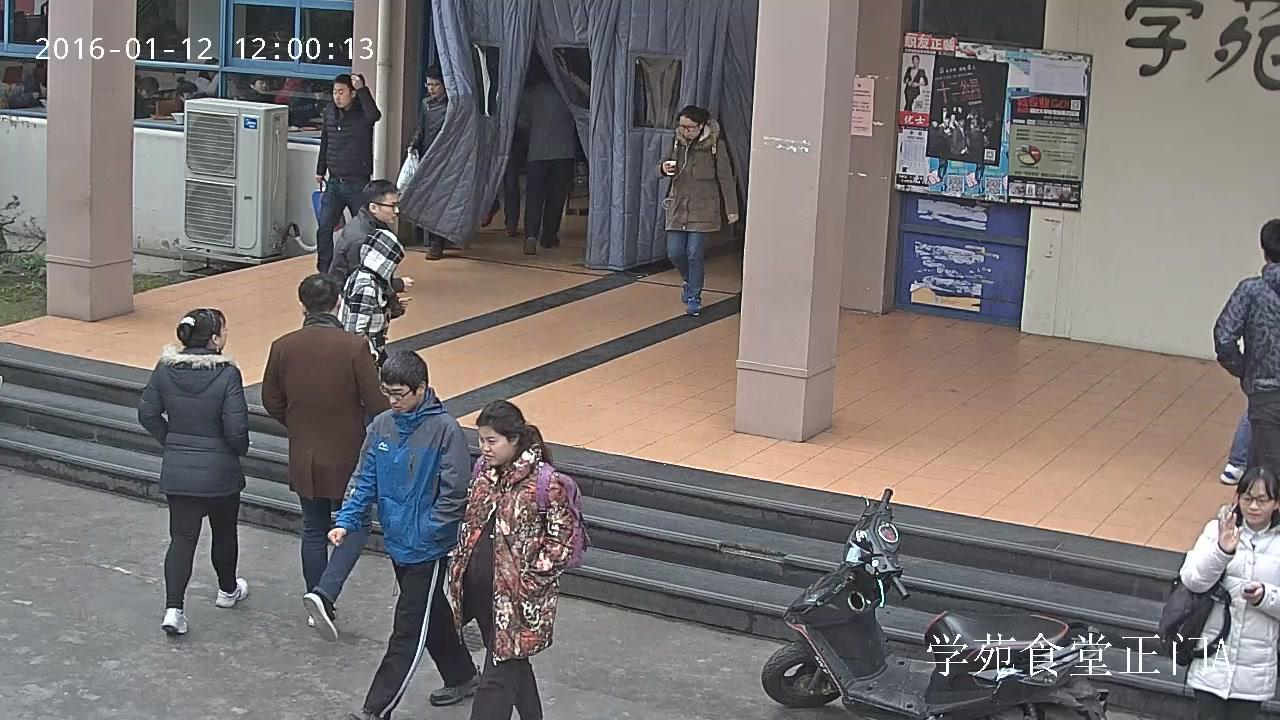person: (326, 348, 480, 720), (260, 274, 392, 643), (442, 398, 589, 719), (137, 307, 249, 635), (1156, 464, 1280, 718), (655, 104, 740, 317), (1212, 217, 1280, 481), (311, 72, 381, 275), (327, 178, 412, 320), (395, 64, 456, 260), (334, 228, 405, 381), (516, 78, 577, 255), (480, 54, 528, 236), (274, 75, 308, 128), (195, 56, 233, 96), (902, 55, 928, 110), (235, 74, 273, 104), (134, 76, 159, 118)
